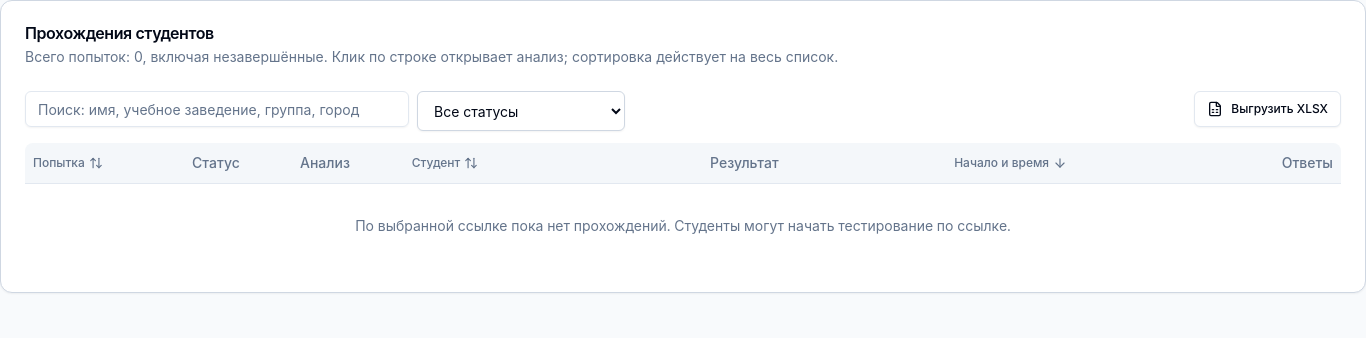
Test case: AnalyticsAttemptsTab › reports a failed export instead of staying silent
The image size is (1366, 338).
Click the button "Выгрузить XLSX". click: [1268, 109]
box: [1194,91,1341,127]
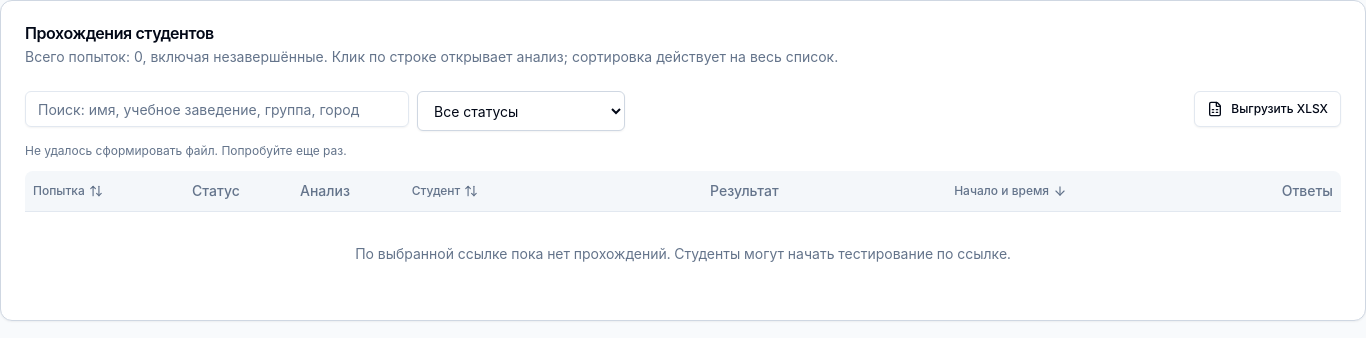
Now the text "Не удалось сформировать файл. Попробуйте еще раз." is shown, box [25,143,347,158]
